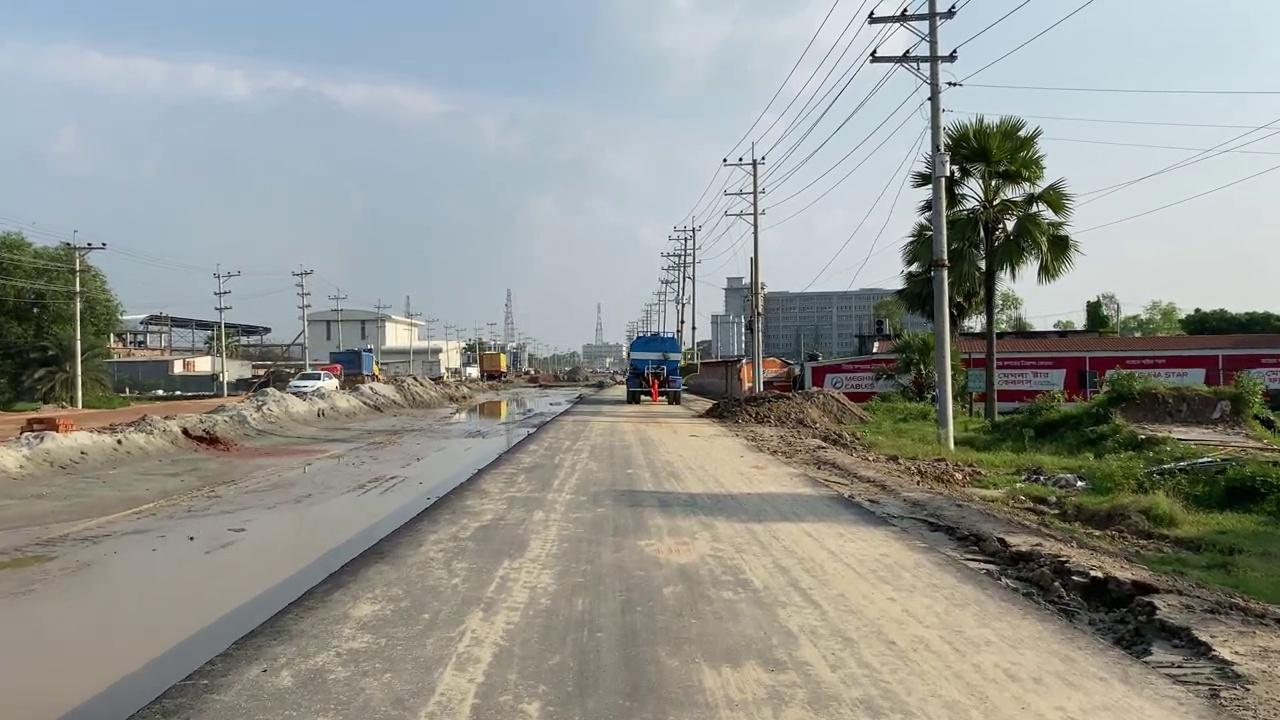Car: (286, 370, 340, 397)
Obstacle: (686, 355, 746, 400)
Pole: (926, 1, 954, 452)
Stuck-water: (649, 378, 659, 402)
Traffic-sign: (901, 112, 1084, 423)
Tree: (624, 331, 683, 404), (739, 355, 796, 394), (327, 347, 381, 388), (479, 351, 508, 381), (317, 362, 344, 389)
